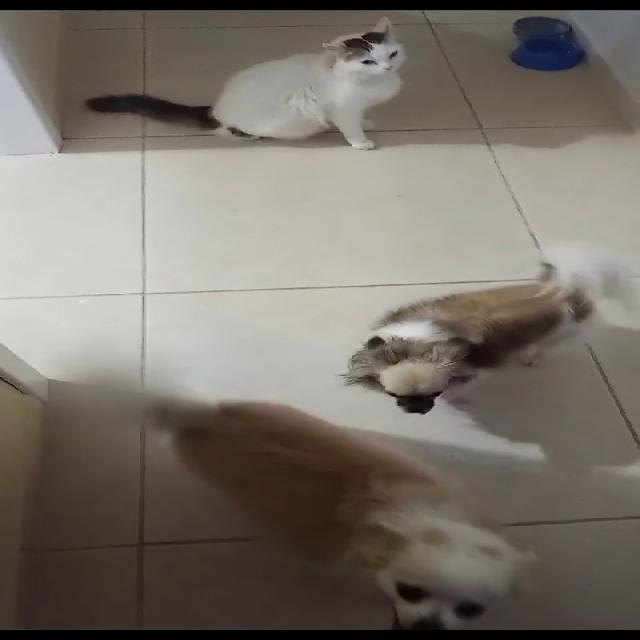Pedrita: (306, 252, 639, 416)
Simba: (306, 252, 639, 416), (192, 22, 524, 149)
Theo: (117, 342, 535, 640)
